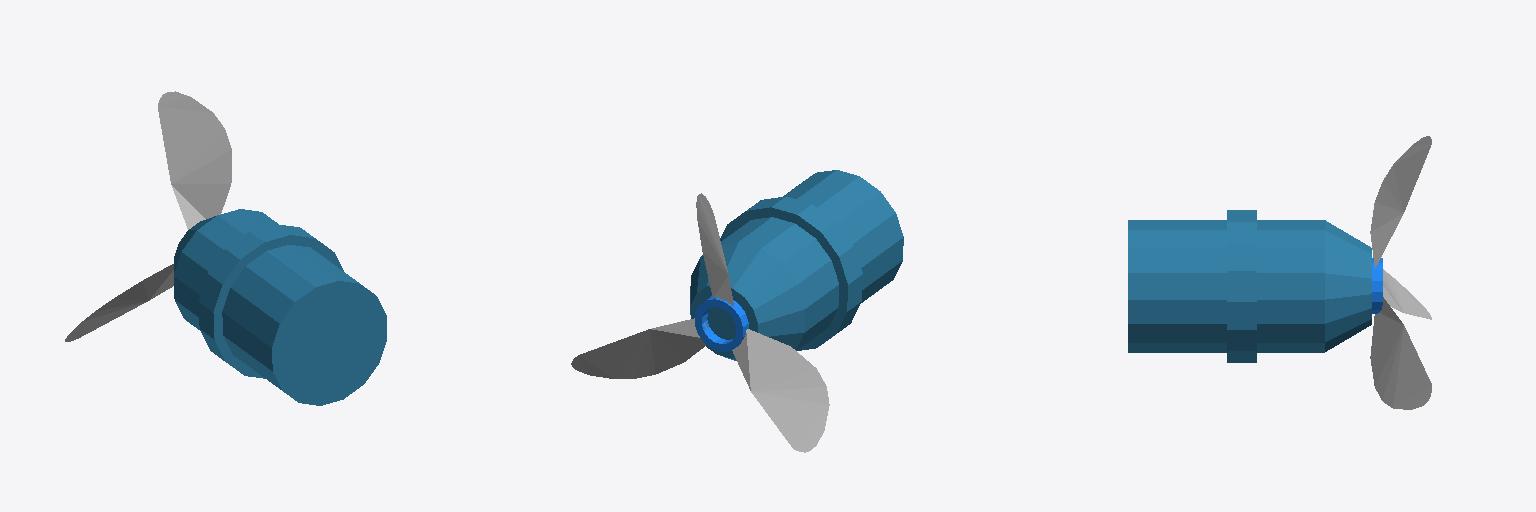
The model's file is propeller_blue.obj.
The picture shows the model from 3 angles: view 1: azimuth 30°, elevation 25°; view 2: azimuth 150°, elevation 25°; view 3: azimuth 270°, elevation 25°; orthographic projection.
Visible parts, largest first — view 1: __, __.2, __.1; view 2: __, __.1, __.2, __.6; view 3: __, __.1, __.2, __.6.
Boxes of the visible parts, <box> form: __: <box>65,209,386,405</box>; __.2: <box>158,91,231,229</box>; __.1: <box>199,224,343,378</box>; __: <box>690,170,903,452</box>; __.1: <box>571,197,862,378</box>; __.2: <box>696,193,733,305</box>; __.6: <box>695,296,748,351</box>; __: <box>1128,220,1431,352</box>; __.1: <box>1227,210,1431,409</box>; __.2: <box>1370,136,1431,267</box>; __.6: <box>1372,258,1382,313</box>.
Bounding box in the file's own units: 206 × 184 × 222.